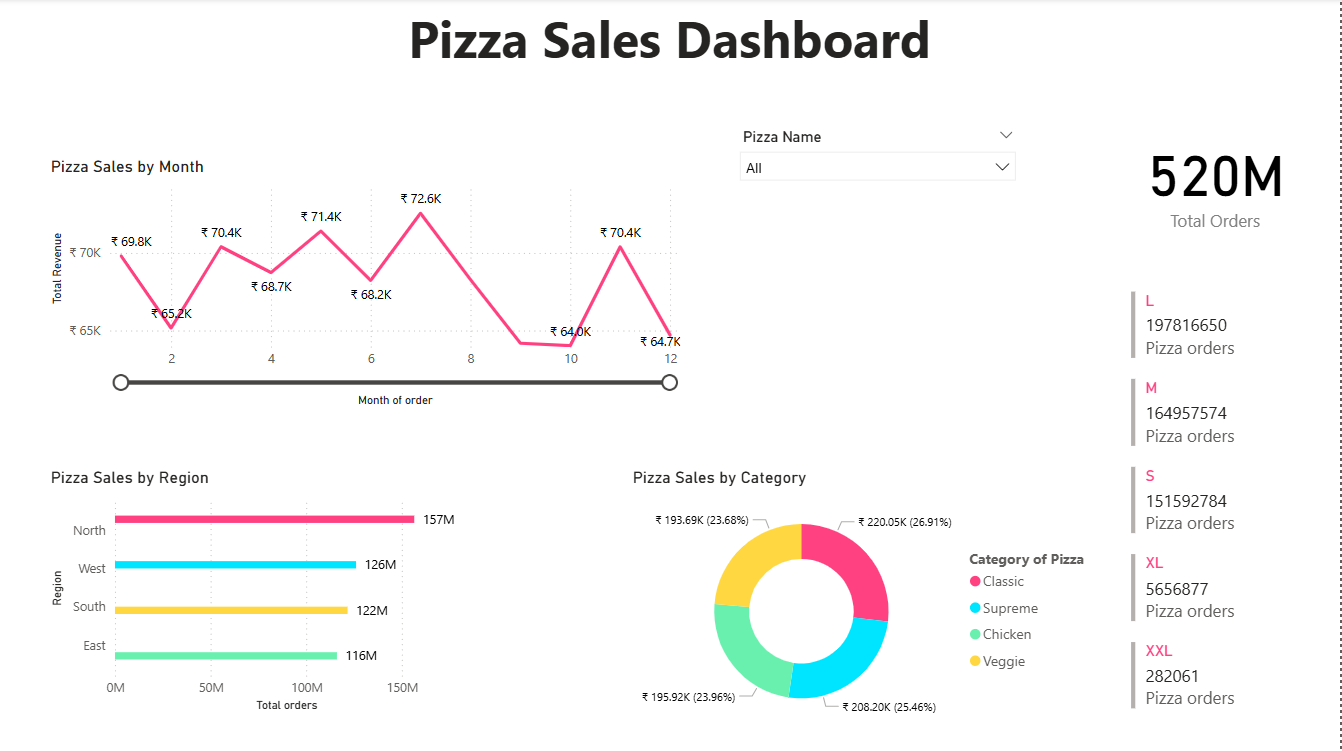

What the dashboard file says about the page in this screenshot:
{"tool":"powerbi","page":{"name":"Page 1","canvas":[1280,720],"ordinal":0},"visuals":[{"type":"lineChart","title":"Pizza Sales by Month","fields":{"Category":["pizza_sales.month_no."],"Y":["Sum(pizza_sales.total_price)"]},"box":[44.2,151.6,611.1,243.2],"z":0},{"type":"clusteredBarChart","title":"Pizza Sales by Region","fields":{"Category":["pizza_sales.Region"],"Series":["pizza_sales.Region"],"Y":["Sum(pizza_sales.order_id)"]},"box":[44.2,448.4,415.3,236.8],"z":1000},{"type":"donutChart","title":"Pizza Sales by Category","fields":{"Y":["Sum(pizza_sales.total_price)"],"Category":["pizza_sales.pizza_category"]},"box":[600,448.4,456.3,255.8],"z":2000},{"type":"card","fields":{"Values":["Sum(pizza_sales.order_id)"]},"box":[1075.3,120,170.5,105.8],"z":3000},{"type":"multiRowCard","fields":{"Values":["pizza_sales.pizza_size","Sum(pizza_sales.order_id)"]},"box":[1075.3,275.2,194.1,445.4],"z":4000},{"type":"slicer","fields":{"Values":["pizza_sales.pizza_name"]},"box":[698.3,119.3,283.1,65.2],"z":5000},{"type":"textbox","box":[214.7,0,851,103.4],"z":6000}]}

Visuals, with their boxes in screenshot pixels (x1, y1, x2, y2), scaled from the page's 1280x720 canvas onto the 1342x751 screenshot:
"Pizza Sales by Month" lineChart: l=46, t=158, r=687, b=412
"Pizza Sales by Region" clusteredBarChart: l=46, t=468, r=482, b=715
"Pizza Sales by Category" donutChart: l=629, t=468, r=1107, b=735
card - Sum(pizza_sales.order_id): l=1127, t=125, r=1306, b=236
multiRowCard - pizza_sales.pizza_size x Sum(pizza_sales.order_id): l=1127, t=287, r=1331, b=750
slicer - pizza_sales.pizza_name: l=732, t=124, r=1029, b=192
textbox: l=225, t=0, r=1117, b=108
